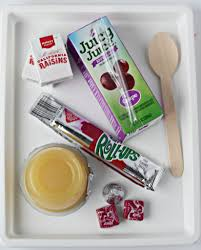Juice_Box: (65, 16, 164, 132)
